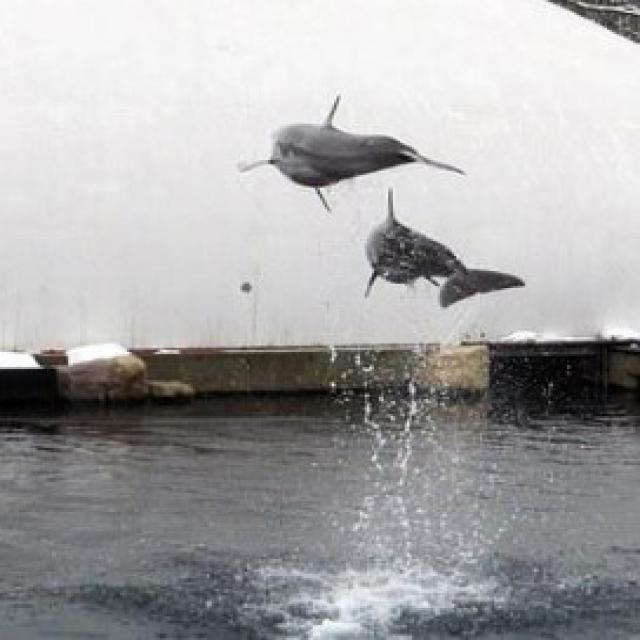Dolphin: (236, 93, 480, 199), (355, 191, 521, 312)
